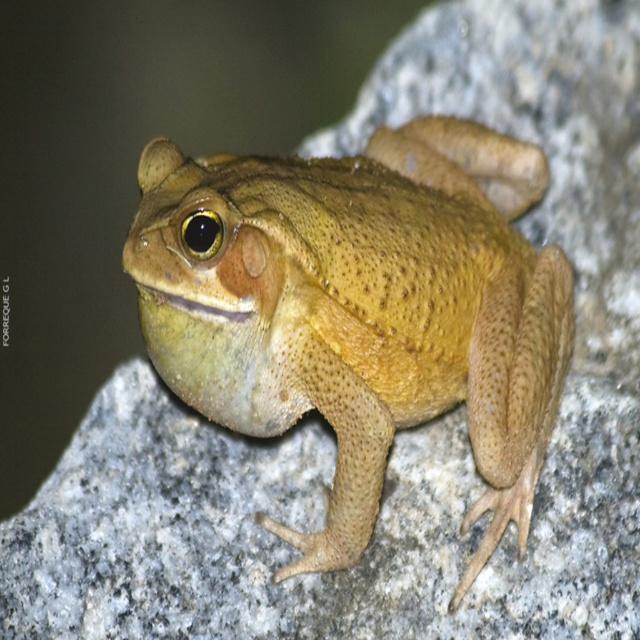Frog: (122, 115, 578, 612)
